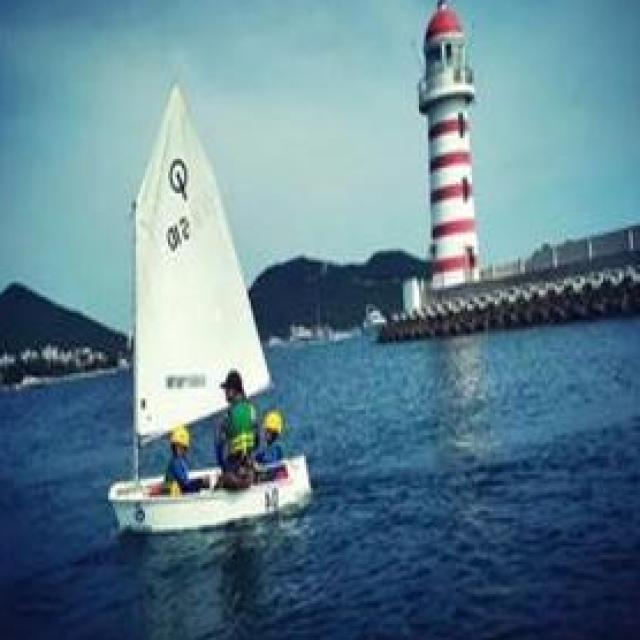sailboat: (106, 81, 317, 529)
